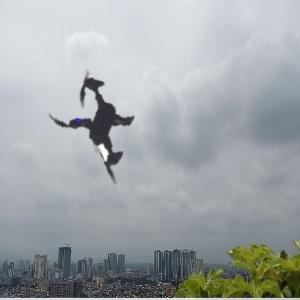drone: (5, 38, 191, 224)
